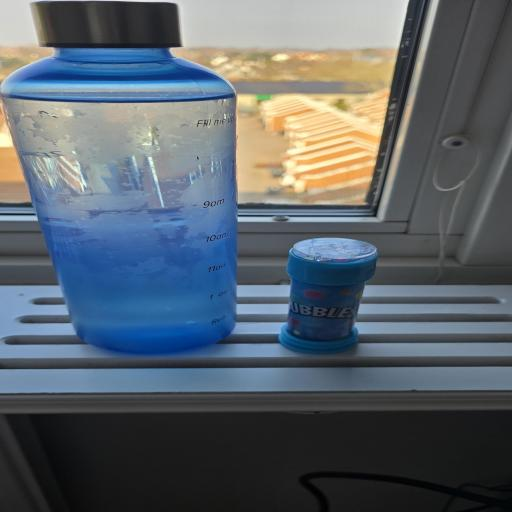bottle: (8, 3, 280, 367)
